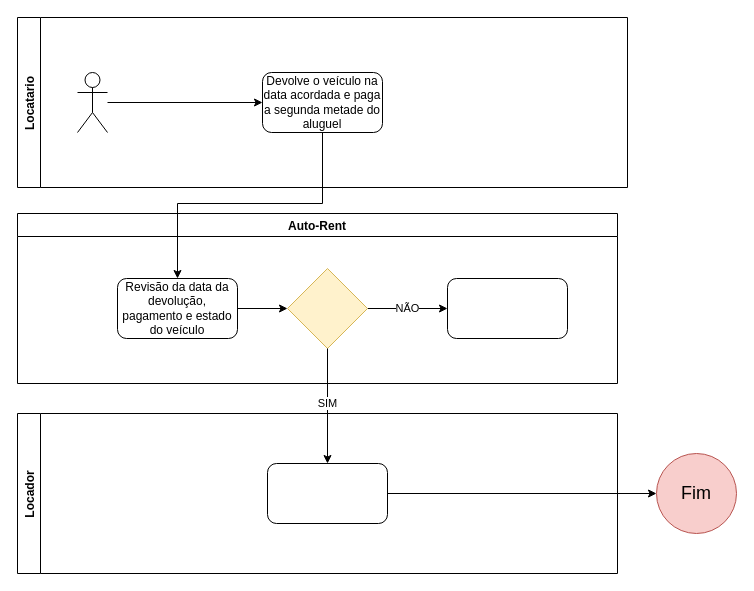
Some shapes in this 754 by 591 pixel diagram are drawn without their labels. The shapes that lost their labels are listed below. From the top down, each one's box as (x1, y1, x2, y2) in pixels, then its label:
(286, 268, 368, 348): Devolução validada
(446, 278, 568, 338): Devidas providências legais
(266, 462, 388, 524): Veículo devolvido ao locador
